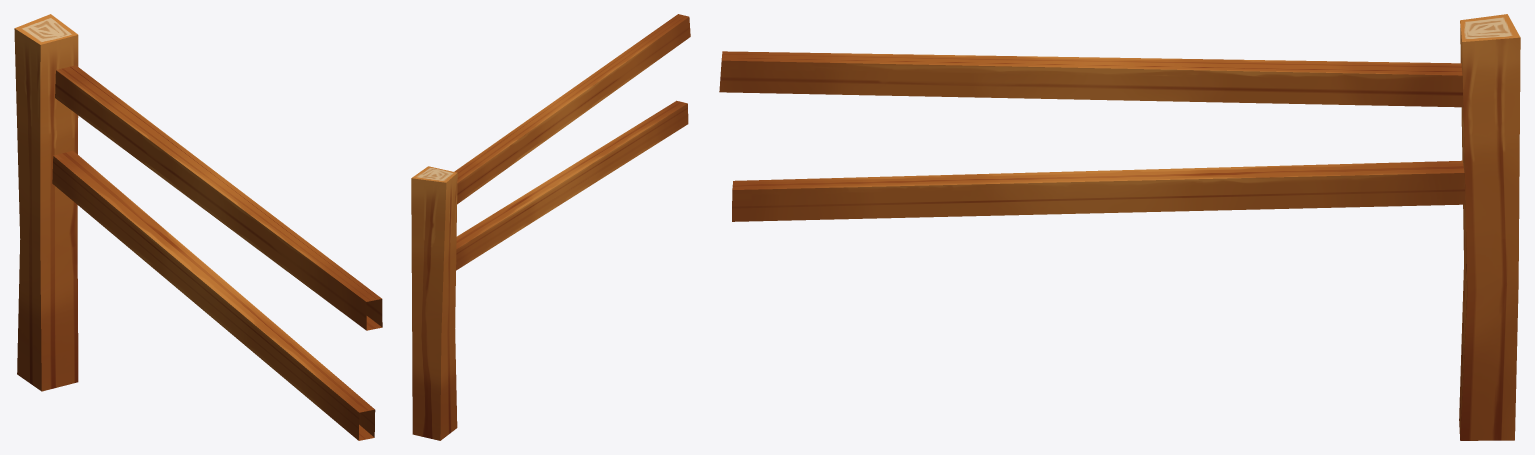
File: port_fence_2.fbx
3 renders of one model, left to right at view 1: azimuth 30°, elevation 25°; view 2: azimuth 150°, elevation 25°; view 3: azimuth 270°, elevation 25°, orthographic. The views are drawn at different scales.
Parts seen in each view (by area): view 1: port_fence_2; view 2: port_fence_2; view 3: port_fence_2.
Part boxes in pixels (x1,y1,x2,y2): port_fence_2: (14,14,382,440); port_fence_2: (411,14,690,440); port_fence_2: (719,14,1520,440).
Bounding box in the file's own units: 52.95 × 386 × 697.
